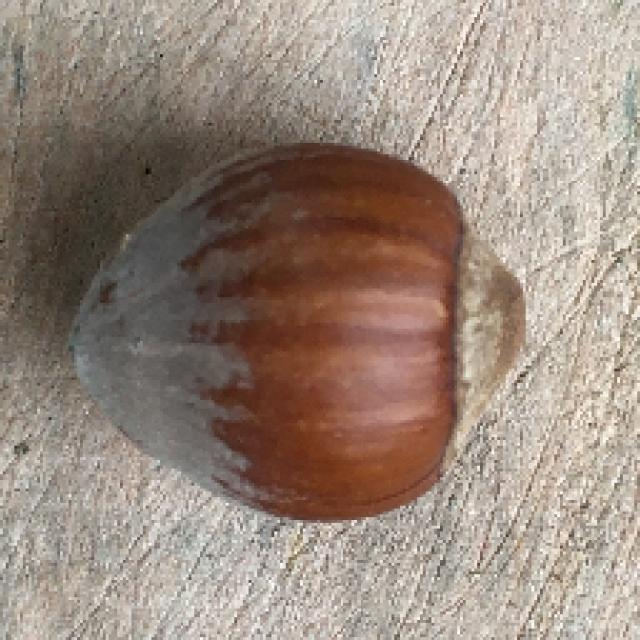hazelnut: (62, 139, 542, 525)
